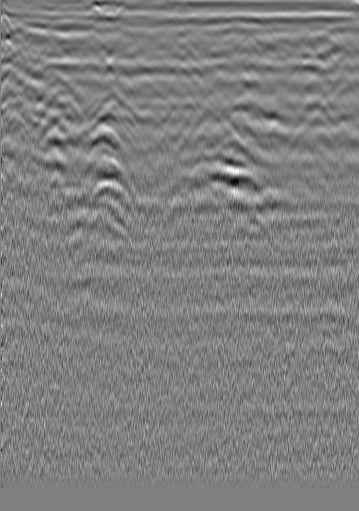가스: (86, 177, 132, 209)
상수: (325, 32, 345, 52)
우수: (221, 31, 241, 51)
